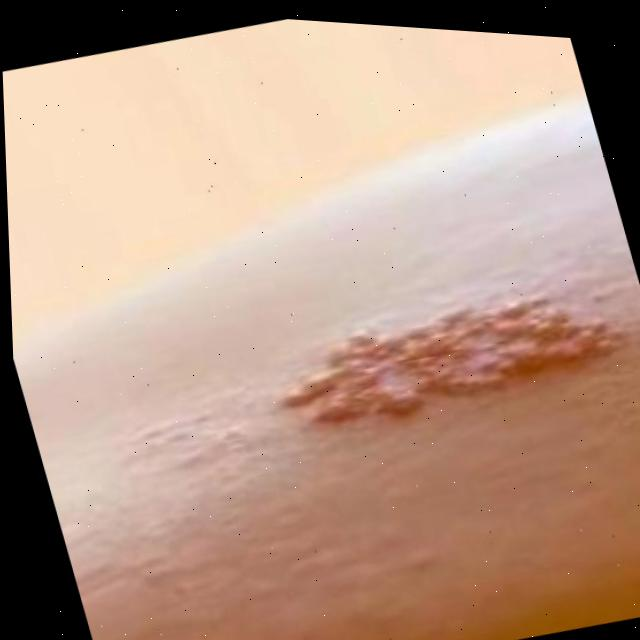Shingles: (255, 252, 633, 462)
